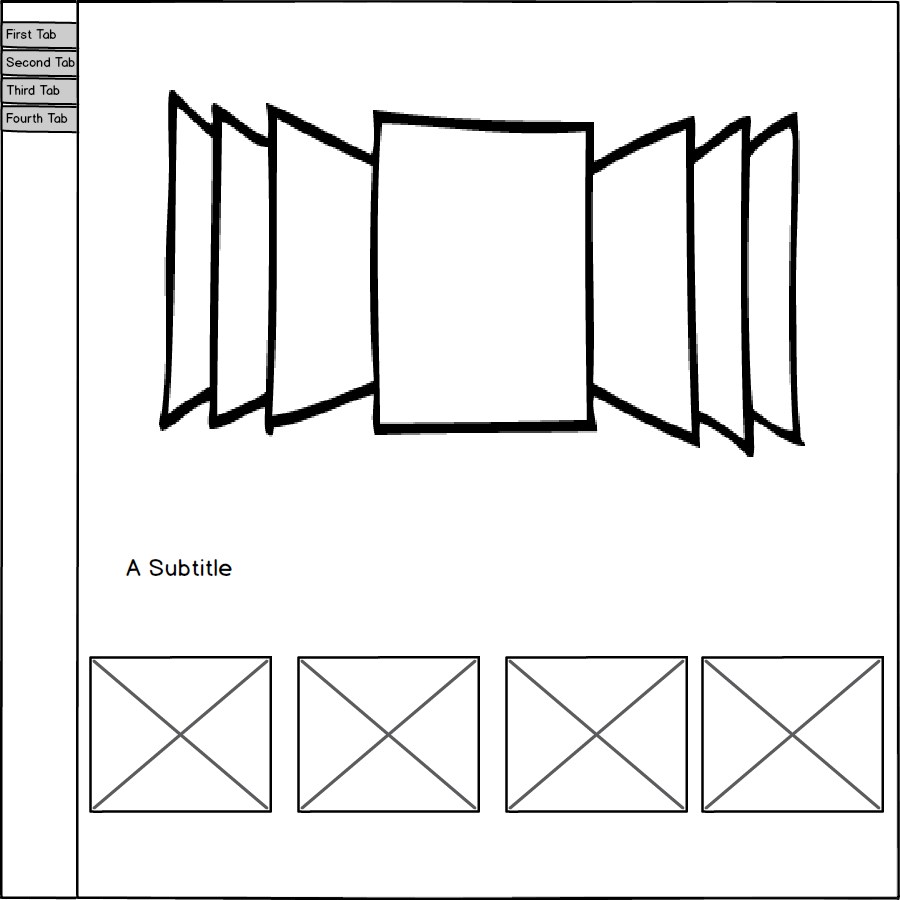h1: (116, 538, 252, 593)
image: (294, 648, 485, 817), (700, 651, 886, 818), (90, 652, 278, 817), (504, 654, 694, 814)
sidebar: (5, 19, 89, 148)
slideshow: (135, 84, 818, 473)
